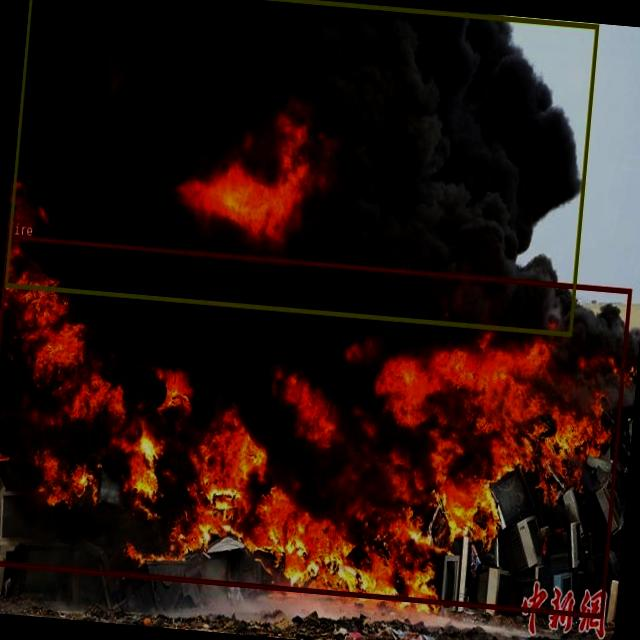fire: (0, 234, 630, 617)
smoke: (3, 0, 597, 335)
